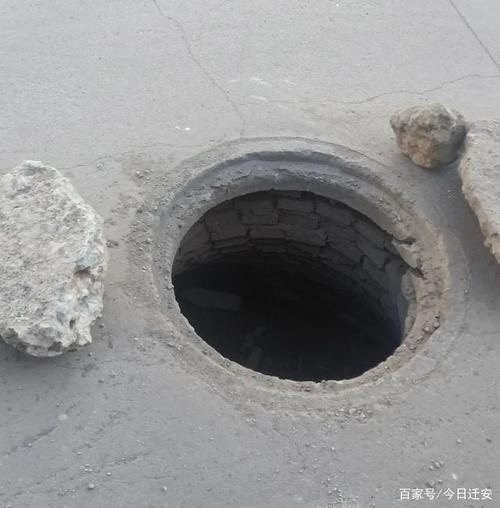lose: (142, 126, 458, 401)
